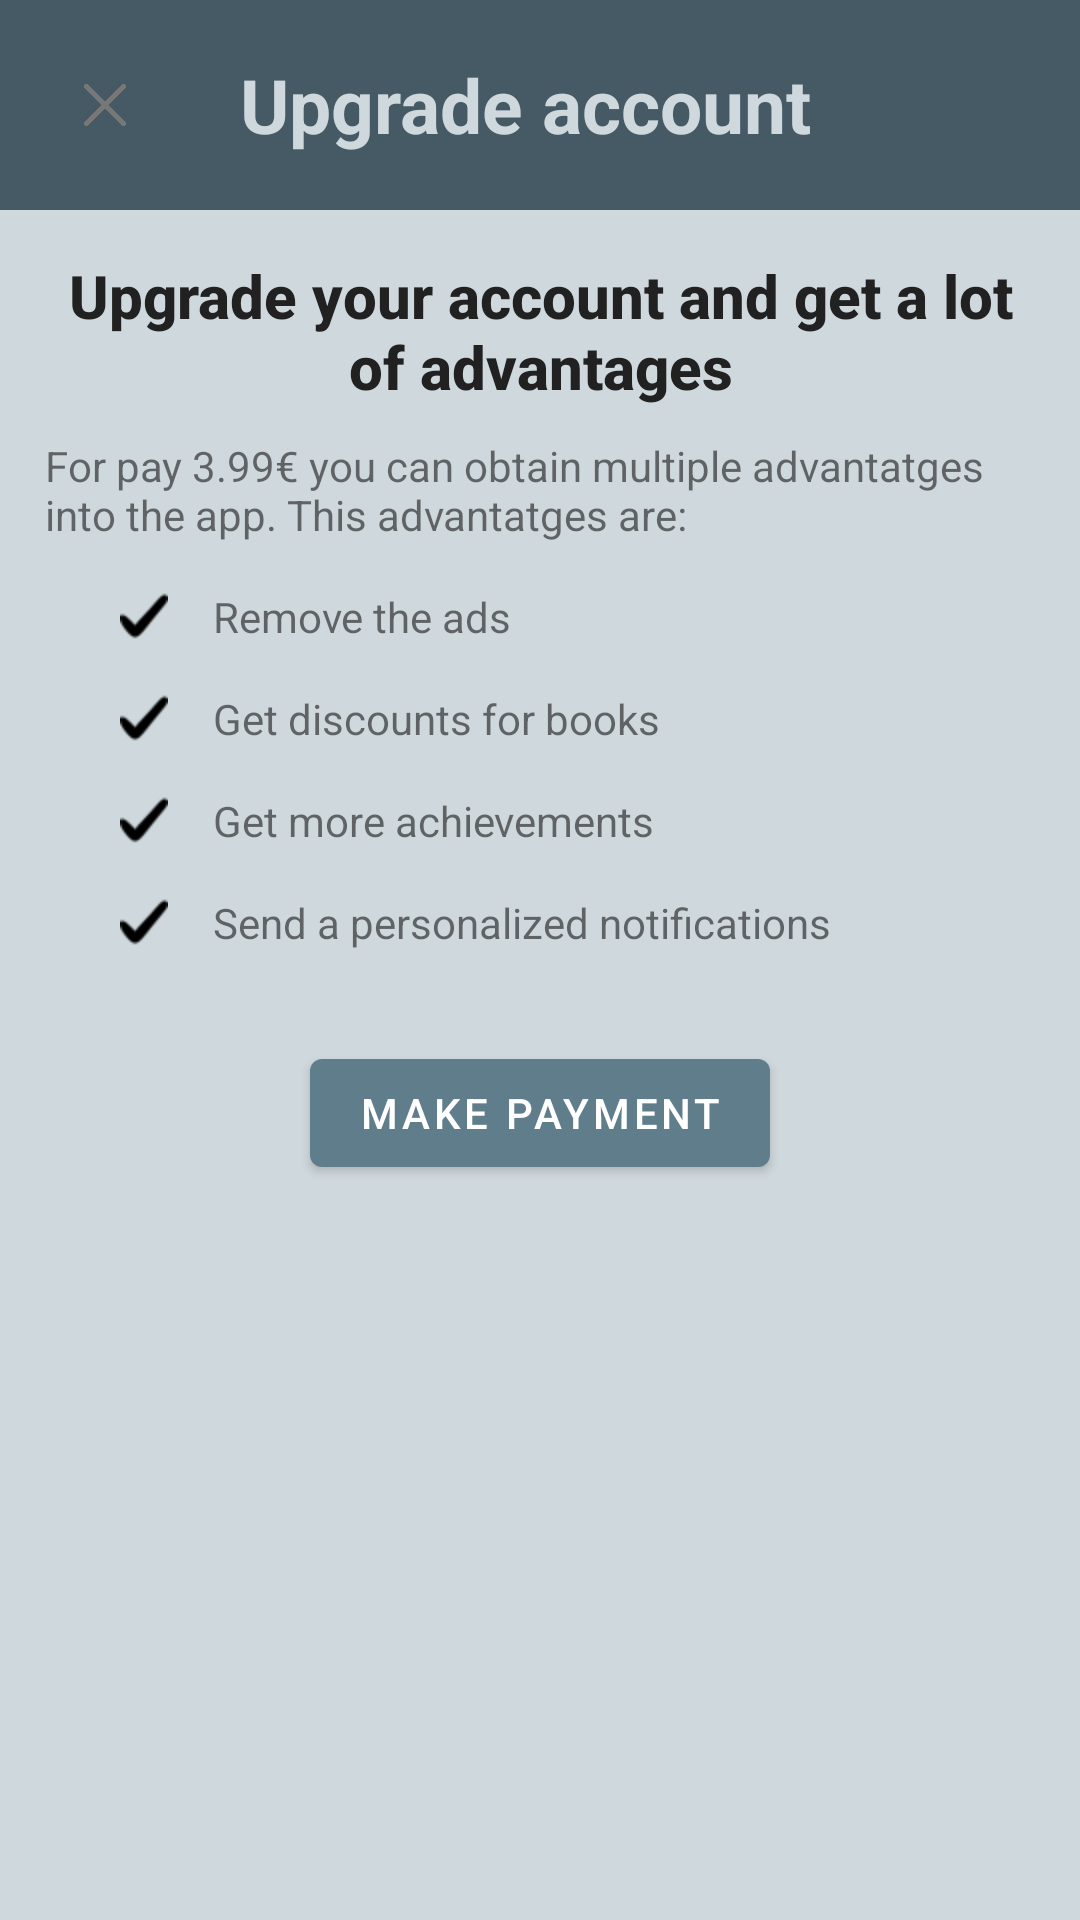

Locate icon controls on the screen. Image size 1080px×1920px, boxes as (left=x1, top=y1, right=x2, bottom=y2).
check mark: (left=120, top=593, right=168, bottom=639), (left=120, top=695, right=168, bottom=741), (left=120, top=797, right=168, bottom=843), (left=120, top=899, right=168, bottom=945)
